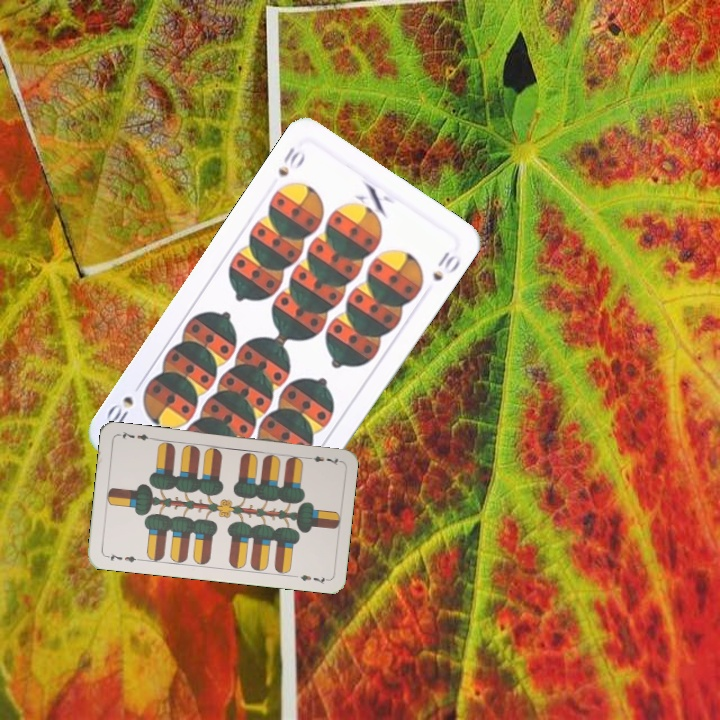E7: (102, 549, 142, 565), (302, 452, 342, 468)
S10: (274, 142, 308, 179)
